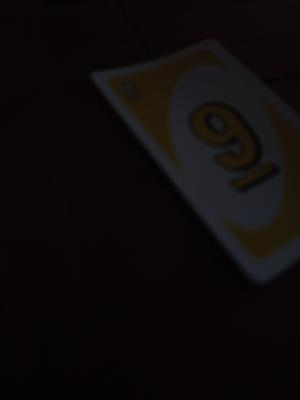num_9: (176, 86, 283, 196)
